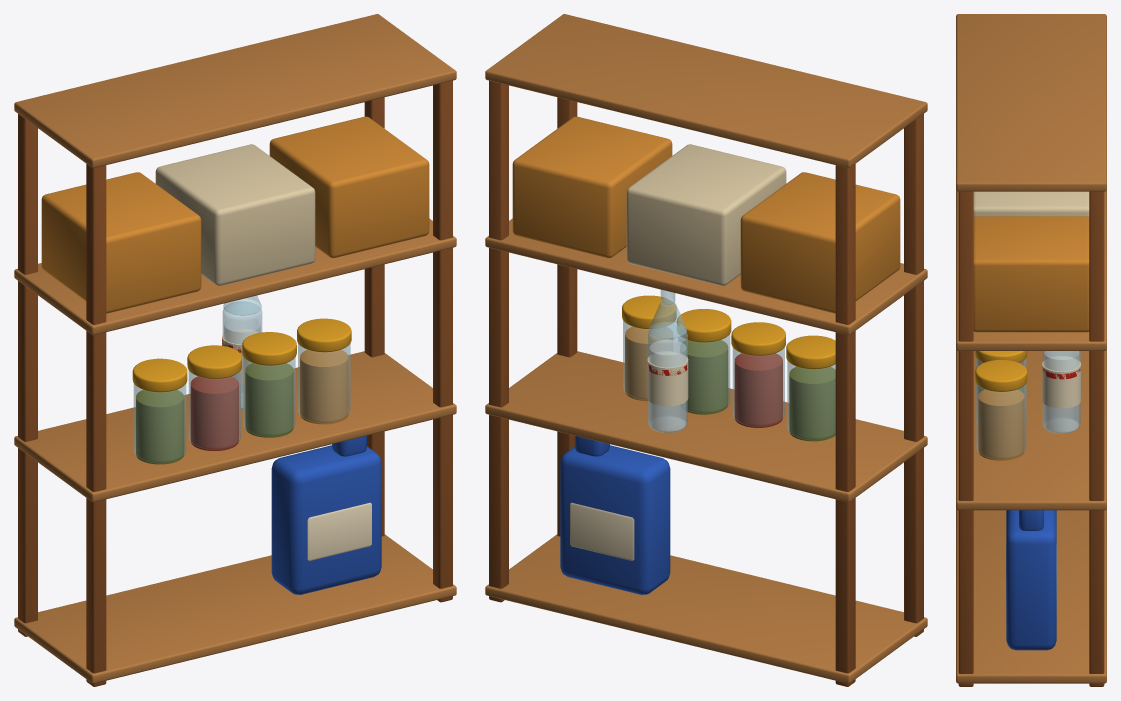
The model's file is balcony_shelf.glb.
The picture shows the model from 3 angles, left to right: view 1: azimuth 30°, elevation 25°; view 2: azimuth 150°, elevation 25°; view 3: azimuth 270°, elevation 25°; orthographic projection. The views are drawn at different scales.
Parts seen in each view (by area): view 1: balcony_shelf, balcony_shelf_jars; view 2: balcony_shelf, balcony_shelf_jars; view 3: balcony_shelf, balcony_shelf_jars.
Part boxes in pixels (x1,y1,x2,y2): balcony_shelf: [14, 14, 456, 686]; balcony_shelf_jars: [132, 318, 351, 464]; balcony_shelf: [485, 14, 927, 686]; balcony_shelf_jars: [622, 295, 835, 441]; balcony_shelf: [956, 14, 1106, 686]; balcony_shelf_jars: [975, 351, 1027, 460].
Size of the model in its own units: 0.8 by 1.11 by 0.3.
